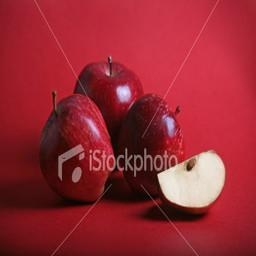apple: (38, 94, 117, 202), (114, 95, 183, 194), (74, 57, 147, 144)
